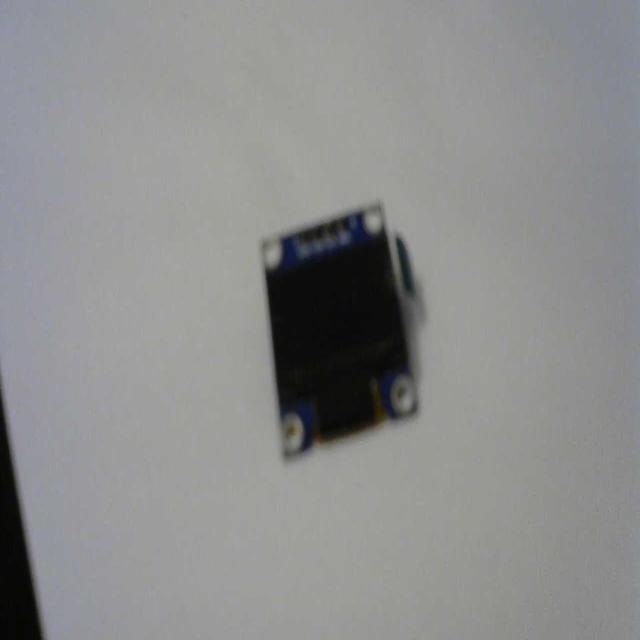oled: (251, 190, 437, 463)
